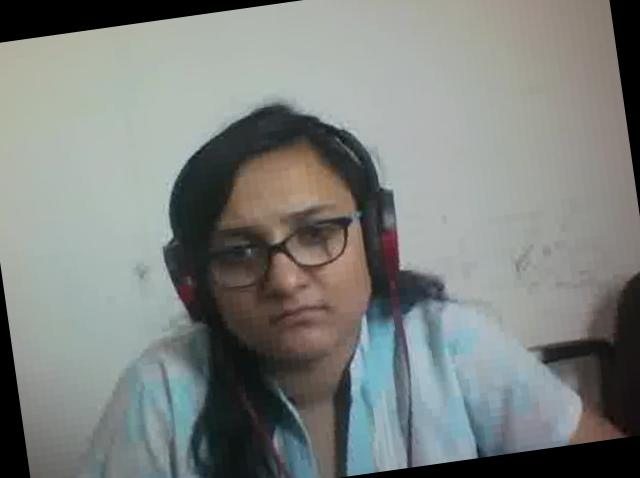bingung: (192, 154, 378, 374)
